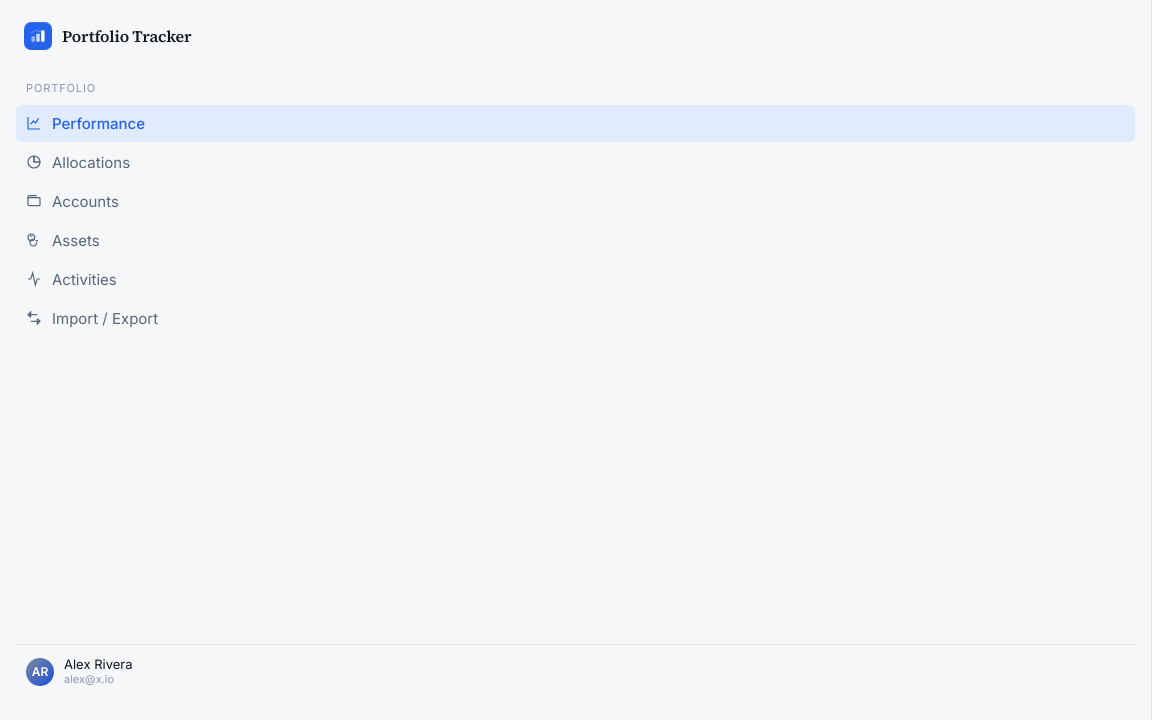
it: Sidebar › user chip toggles the UserMenu
Check: the text "Profile" is not shown
Click the button "AR Alex Rivera alex@x.io" at (98, 664), box left=26, top=657, right=1125, bottom=686
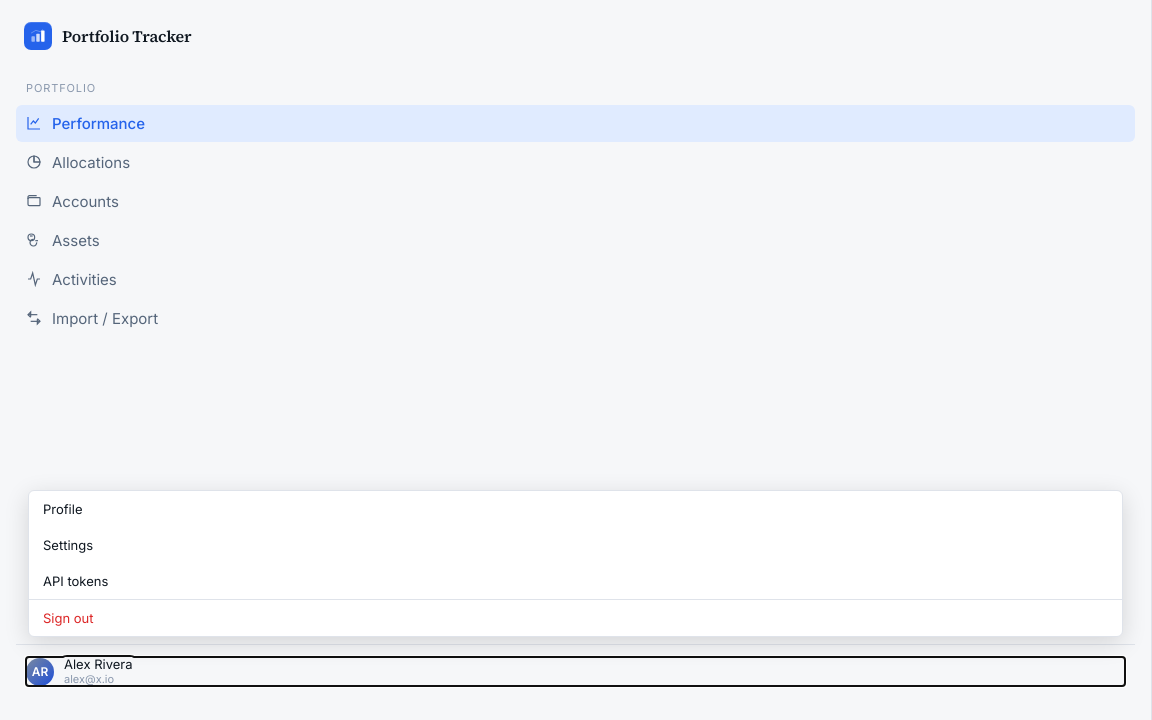
Check: the button "Profile" is shown, box left=29, top=491, right=1122, bottom=527
Check: the button "Settings" is shown, box left=29, top=527, right=1122, bottom=563
Check: the button "API tokens" is shown, box left=29, top=563, right=1122, bottom=599
